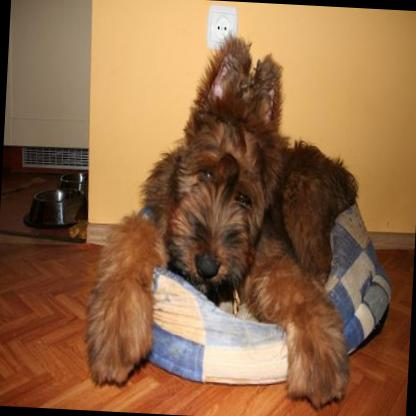briard: (81, 26, 380, 410)
